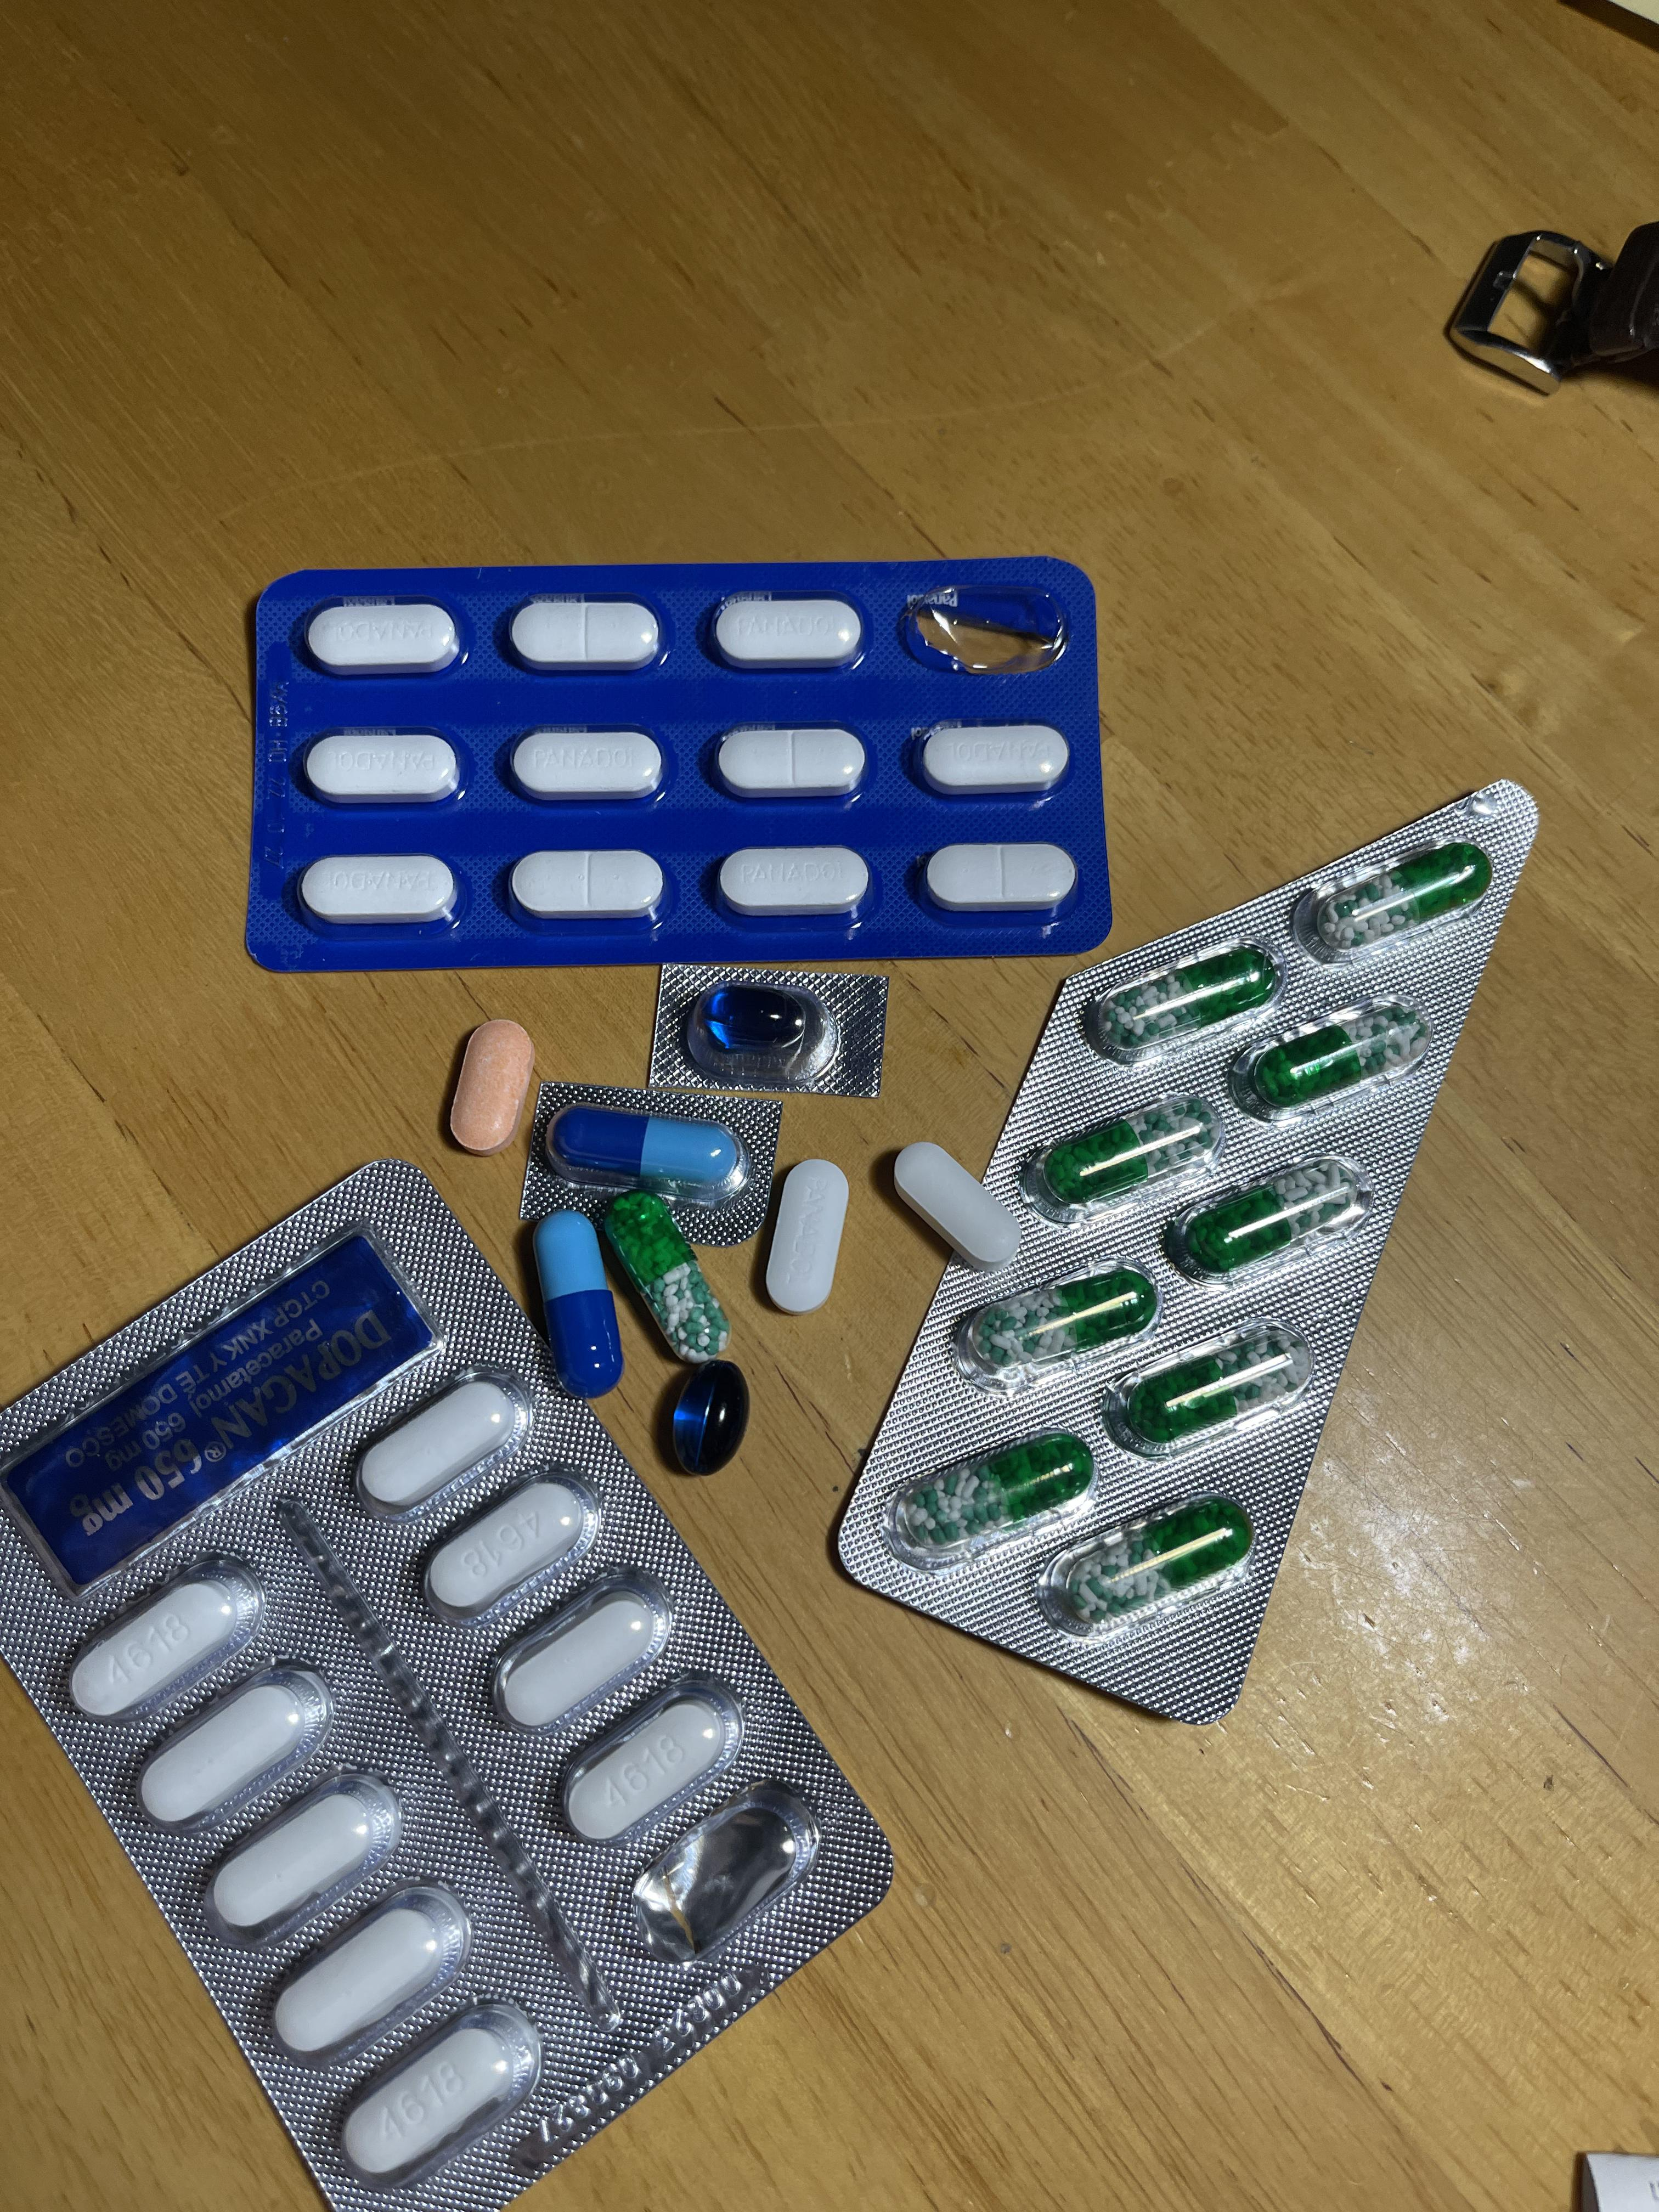Lincomyxin_500mg: (667, 1359, 748, 1474), (702, 984, 809, 1054)
Loratadine_10mg: (450, 1021, 537, 1146)
Paracetamol_350mg: (758, 1162, 843, 1317), (918, 723, 1075, 798), (709, 596, 868, 669), (305, 601, 458, 676), (507, 728, 664, 801), (303, 732, 458, 805), (507, 597, 662, 671), (714, 725, 871, 796), (300, 853, 457, 923), (718, 845, 873, 914), (511, 850, 666, 920), (925, 841, 1079, 911)
Paracetamol_500mg: (193, 1770, 408, 1956), (131, 1660, 335, 1831), (275, 1902, 455, 2055), (340, 2022, 514, 2177), (420, 1479, 596, 1620), (70, 1576, 239, 1717), (568, 1698, 725, 1839), (502, 1590, 660, 1728), (359, 1381, 516, 1503), (894, 1143, 1018, 1277)
Paracetamol_650mg: (889, 1430, 1096, 1562), (1107, 1320, 1305, 1456), (1171, 1153, 1378, 1282), (1047, 1491, 1241, 1629), (1225, 993, 1429, 1116), (1298, 843, 1493, 963), (1091, 941, 1279, 1062), (960, 1264, 1147, 1386), (599, 1190, 728, 1362), (1033, 1096, 1211, 1212)
pill: (542, 1108, 749, 1209), (533, 1209, 624, 1386)
